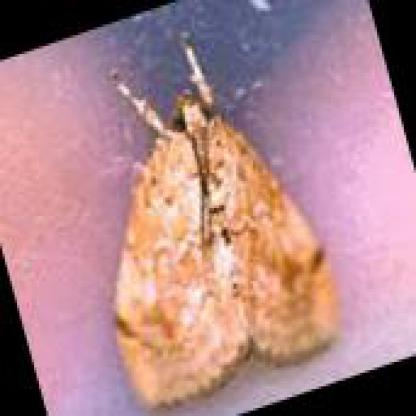Leaf Webber: (116, 90, 337, 410)
